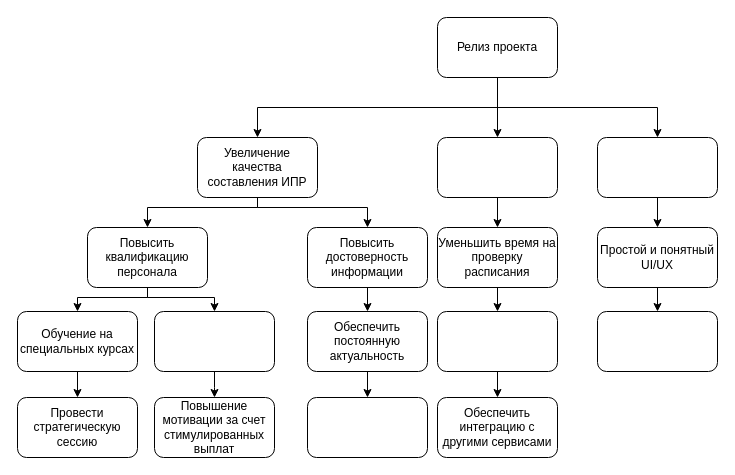
Image size: 735x475. Some labels were removed from this diagram. Each missing label, with the centre of its shape:
Минимизировать вероятности ошибок: (x=497, y=341)
Обучить персонал: (x=214, y=341)
Повышение удобства использования: (x=657, y=167)
Предоставлять мгновенной доступ: (x=367, y=427)
Предоставлять отчеты: (x=657, y=341)
Увеличение эффективности процесса: (x=497, y=167)
